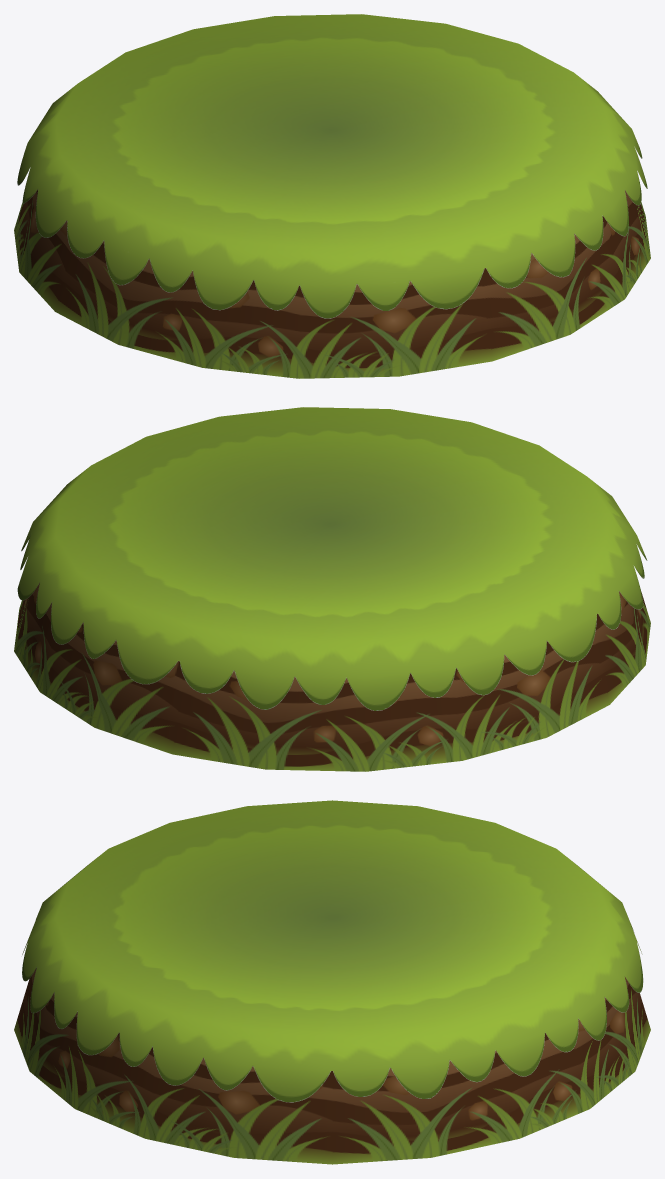
Rendered from Hill_01.FBX.
3 renders of one model, top to bottom at view 1: azimuth 30°, elevation 25°; view 2: azimuth 150°, elevation 25°; view 3: azimuth 270°, elevation 25°, orthographic.
Visible parts, largest first — view 1: Grass, Rock; view 2: Grass, Rock; view 3: Grass, Rock.
Part boxes in pixels (x1=…): Grass: x1=17, y1=14, x2=647, y2=318; Rock: x1=14, y1=189, x2=650, y2=378; Grass: x1=17, y1=407, x2=647, y2=710; Rock: x1=14, y1=583, x2=650, y2=771; Grass: x1=22, y1=800, x2=643, y2=1102; Rock: x1=14, y1=968, x2=650, y2=1164.
Bounding box in the file's own units: 736 × 143 × 736.
1 material, 1 textured.
